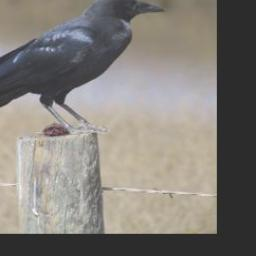Crow: (0, 0, 169, 136)
